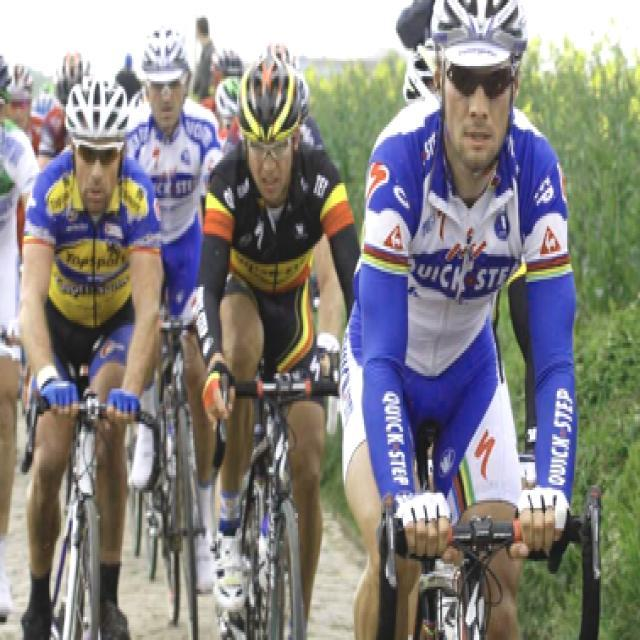Helmet: (419, 0, 534, 173), (58, 63, 142, 221), (236, 48, 312, 206), (135, 22, 188, 130)
